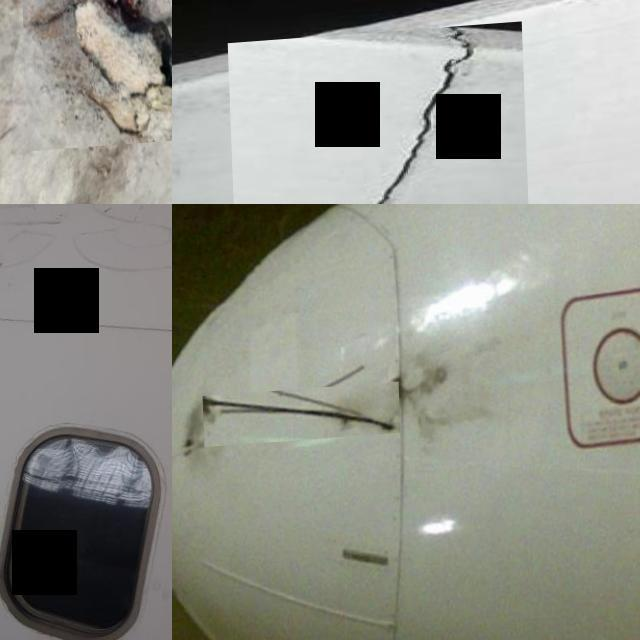Crack: (226, 28, 531, 204), (18, 0, 172, 155), (201, 400, 397, 438)
